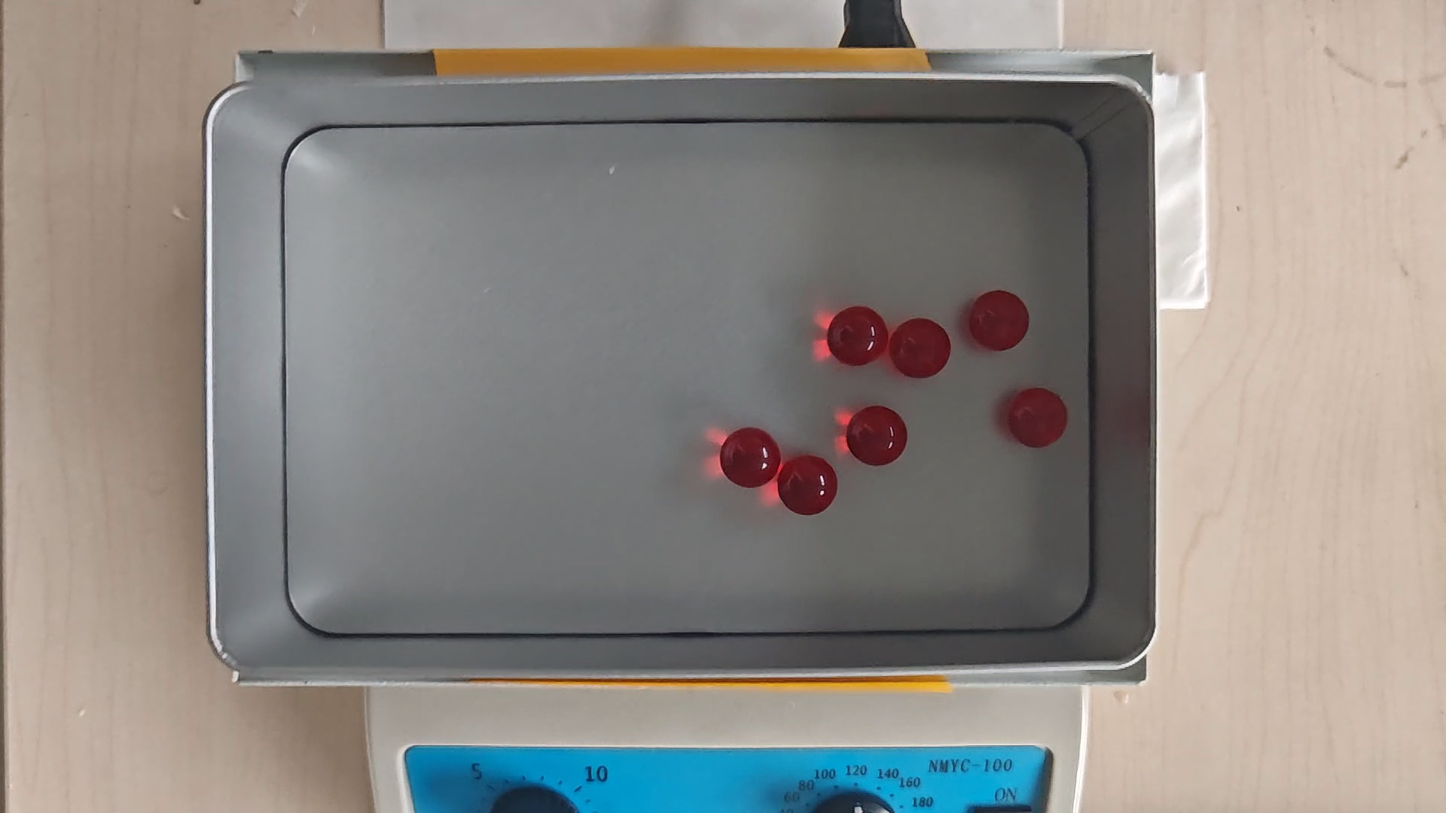ball: (1005, 388, 1069, 450), (890, 317, 952, 379), (845, 406, 908, 467), (826, 306, 889, 367), (969, 291, 1030, 352), (719, 426, 779, 488), (778, 455, 838, 516)
container: (283, 121, 1095, 635)
